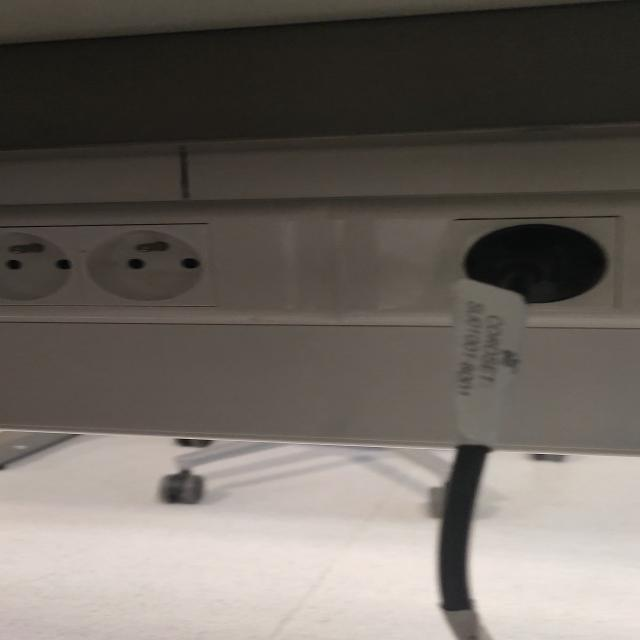house plug: (74, 224, 224, 306), (0, 219, 86, 307)
